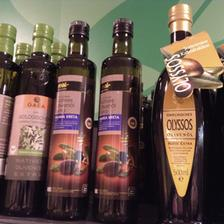Oel: (150, 3, 206, 222), (1, 22, 56, 215), (92, 17, 142, 223), (47, 19, 95, 221)
